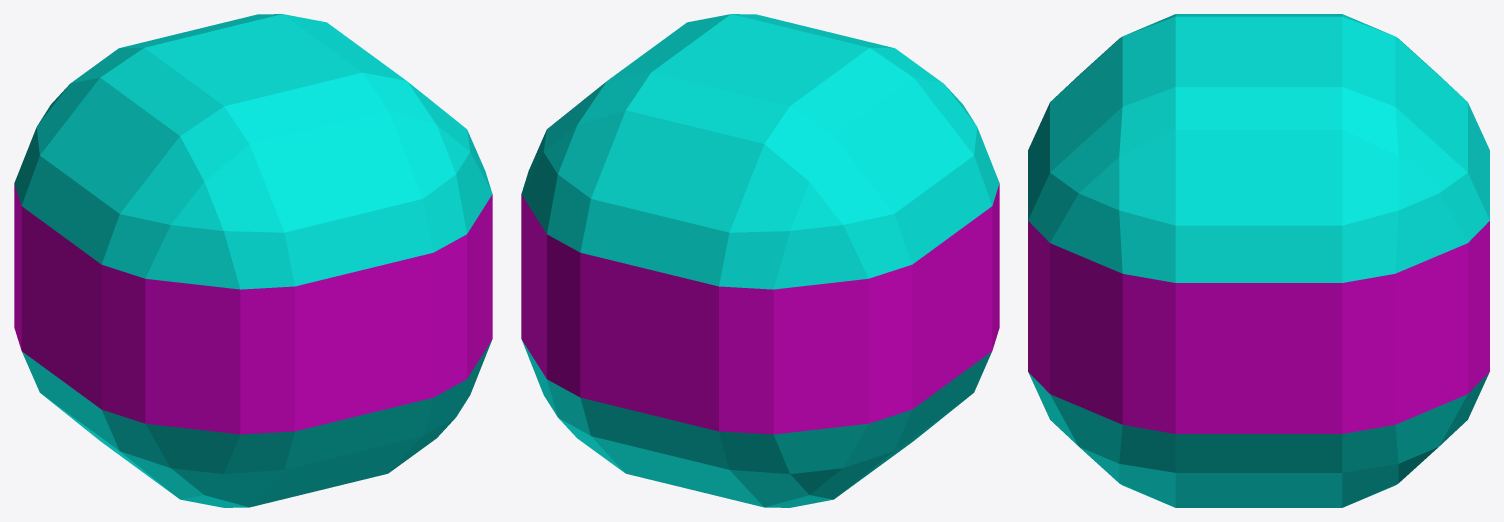
File: ammo_pickup.glb
3 renders of one model, left to right at view 1: azimuth 30°, elevation 25°; view 2: azimuth 150°, elevation 25°; view 3: azimuth 270°, elevation 25°, orthographic. The views are drawn at different scales.
Parts seen in each view (by area): view 1: Cube; view 2: Cube; view 3: Cube.
Boxes of the visible parts, <box> form: Cube: <box>14,14,492,507</box>; Cube: <box>521,14,999,507</box>; Cube: <box>1028,14,1489,507</box>.
Size of the model in its own units: 2 by 2 by 2.
